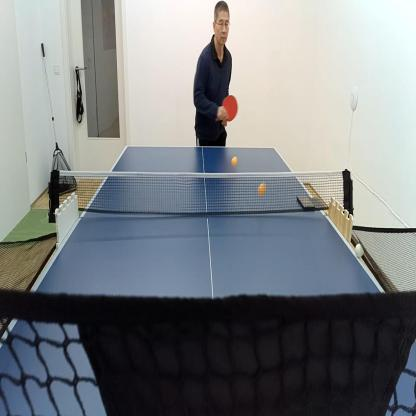Ball: (354, 241, 365, 260), (257, 182, 267, 197), (231, 156, 239, 167)
